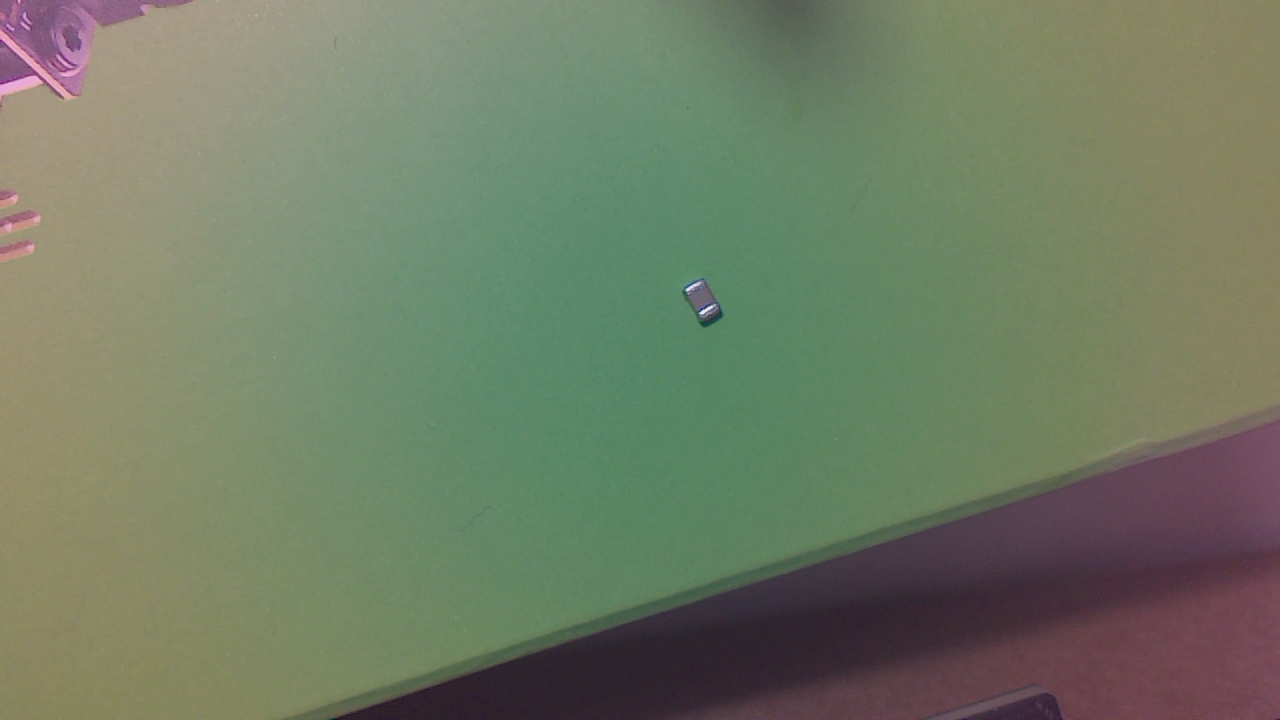Condensator: (685, 281, 730, 333)
